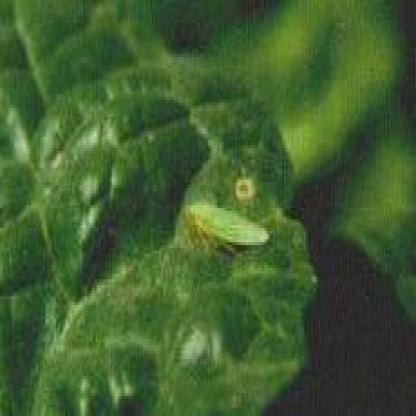Green-Leafhopper: (181, 187, 271, 268)
